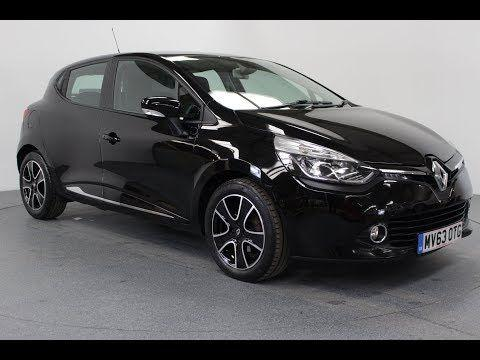Renault: (427, 154, 454, 196)
